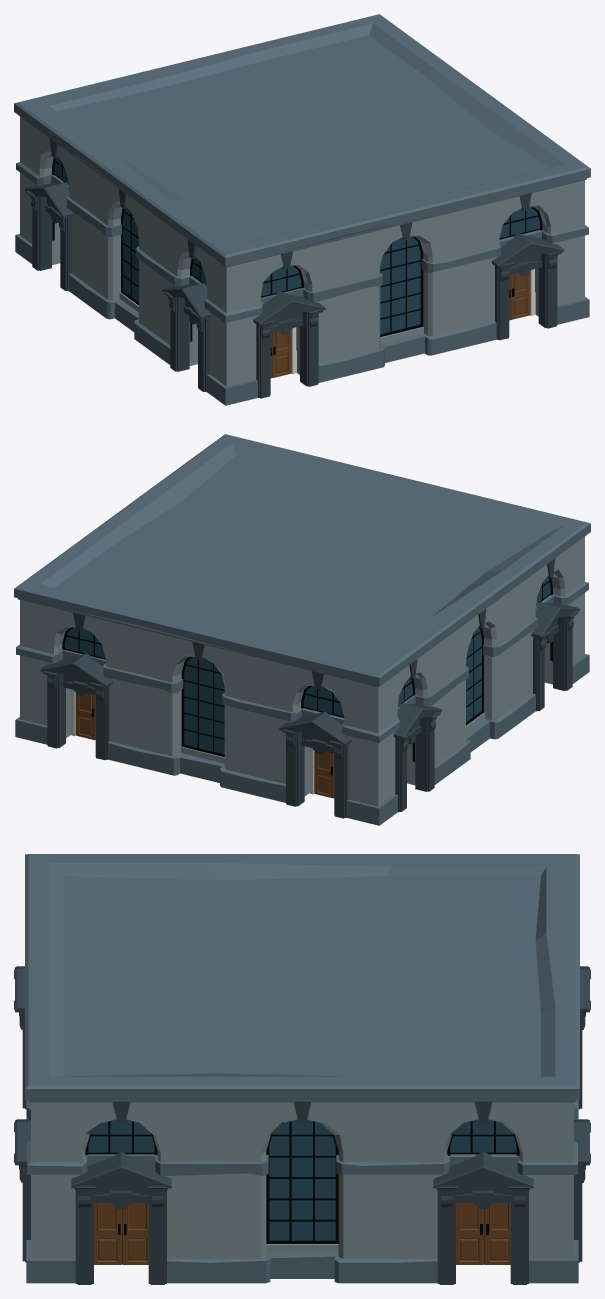
The model's file is Apt1_Base.fbx.
3 renders of one model, top to bottom at view 1: azimuth 30°, elevation 25°; view 2: azimuth 150°, elevation 25°; view 3: azimuth 270°, elevation 25°, orthographic. The views are drawn at different scales.
Visible parts, largest first — view 1: Base Roof, Main, Column.004, Windows.011, Bottom Border, Top Border, Doors, V; view 2: Base Roof, Main, Column.004, Windows.011, Bottom Border, Top Border, Doors, V; view 3: Base Roof, Main, Column.004, Windows.011, Bottom Border, Doors, Top Border, V.
Part boxes in pixels (x1,y1,x2,y2): Base Roof: (14, 14, 590, 267); Main: (20, 116, 584, 386); Column.004: (25, 182, 564, 398); Windows.011: (52, 157, 542, 341); Bottom Border: (15, 234, 589, 405); Top Border: (16, 162, 588, 322); Doors: (270, 269, 535, 378); V: (49, 138, 531, 269); Base Roof: (14, 434, 590, 687); Main: (20, 536, 584, 806); Column.004: (40, 602, 579, 818); Windows.011: (62, 577, 552, 762); Bottom Border: (15, 654, 589, 825); Top Border: (16, 582, 588, 742); Doors: (70, 689, 334, 798); V: (73, 558, 555, 689); Base Roof: (25, 854, 579, 1102); Main: (31, 1102, 573, 1258); Column.004: (14, 966, 590, 1284); Windows.011: (85, 1119, 519, 1243); Bottom Border: (26, 1099, 578, 1283); Doors: (94, 1203, 510, 1264); Top Border: (27, 1099, 577, 1176); V: (112, 1101, 492, 1123).
Bounding box in the file's own units: 1606 × 605 × 1606.
